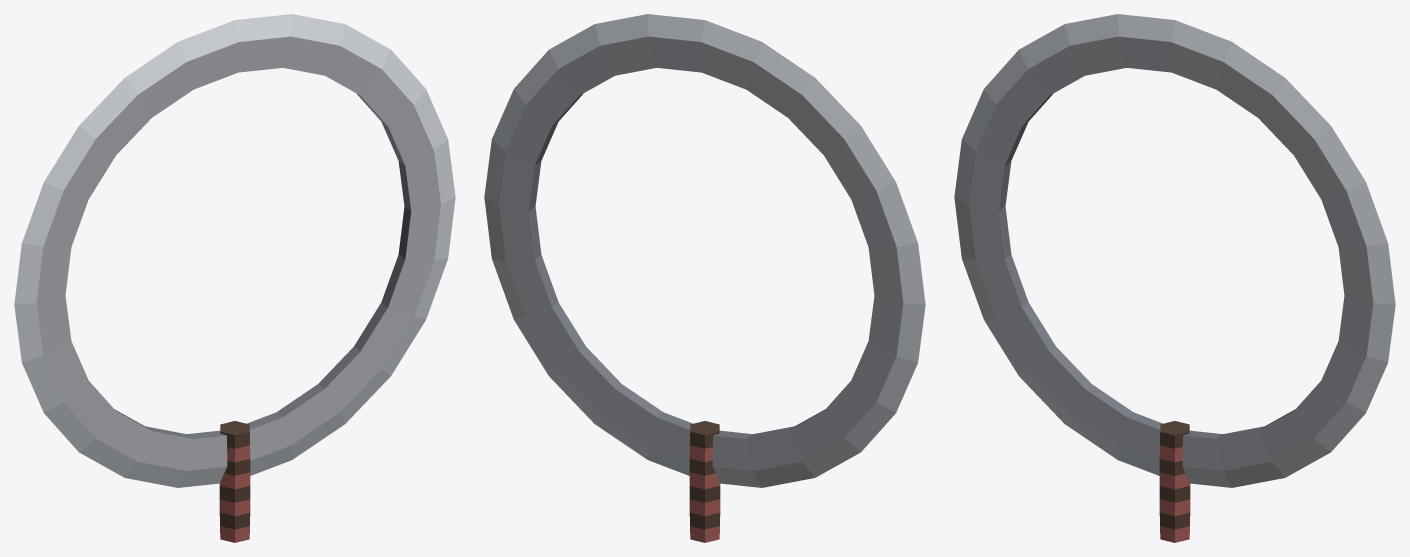
File: chakram.glb
3 renders of one model, left to right at view 1: azimuth 30°, elevation 25°; view 2: azimuth 150°, elevation 25°; view 3: azimuth 330°, elevation 25°, orthographic.
Visible parts, largest first — view 1: chakram; view 2: chakram; view 3: chakram.
Part boxes in pixels (x1,y1,x2,y2): chakram: [14, 14, 455, 542]; chakram: [484, 14, 925, 542]; chakram: [954, 14, 1395, 542].
Bounding box in the file's own units: 0.6 × 0.67 × 0.0364.
